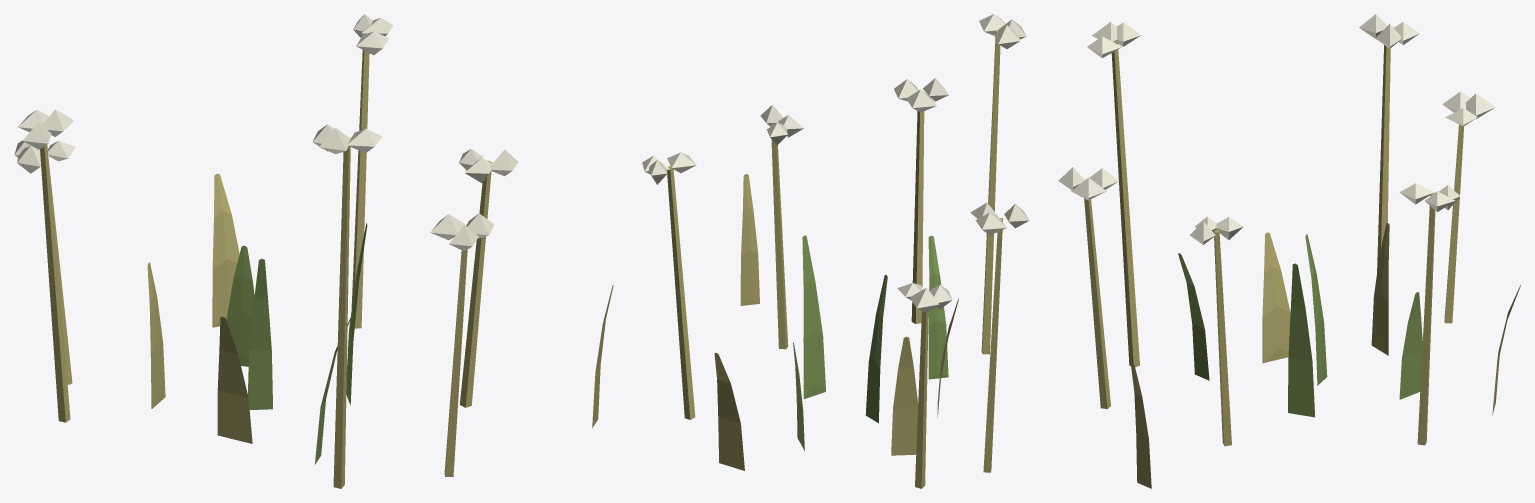
Rendered from flowers_bog_a.glb.
3 views of the same model, side by side, from view 1: azimuth 30°, elevation 25°; view 2: azimuth 150°, elevation 25°; view 3: azimuth 270°, elevation 25° (orthographic). The views are drawn at different scales.
Visible parts, largest first — view 1: FlowersBogA; view 2: FlowersBogA; view 3: FlowersBogA.
Part boxes in pixels (box(x1,y1,x2,y2)): FlowersBogA: box(14, 14, 613, 488); FlowersBogA: box(642, 14, 1029, 488); FlowersBogA: box(1058, 14, 1520, 488).
Bounding box in the file's own units: 0.863 × 0.6808 × 0.836.
